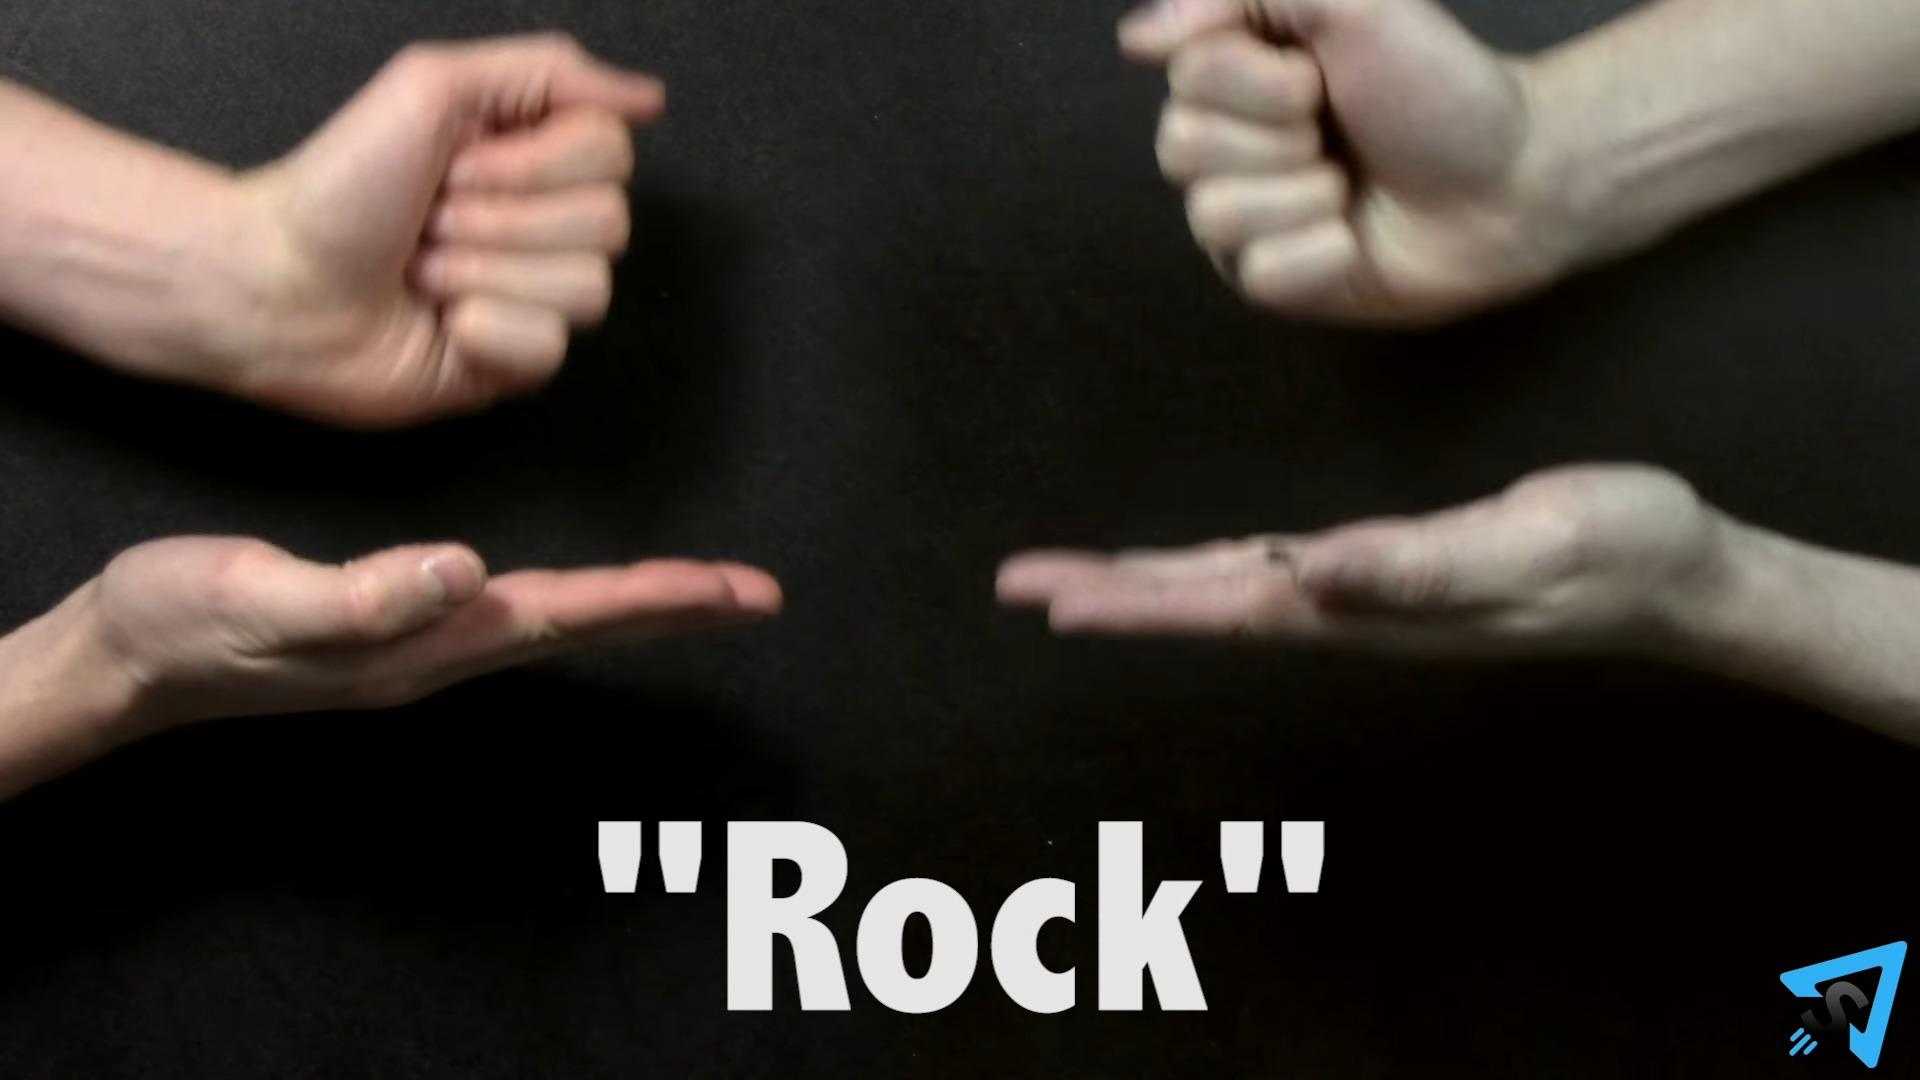Rock: (237, 25, 670, 421), (1116, 0, 1553, 326)
